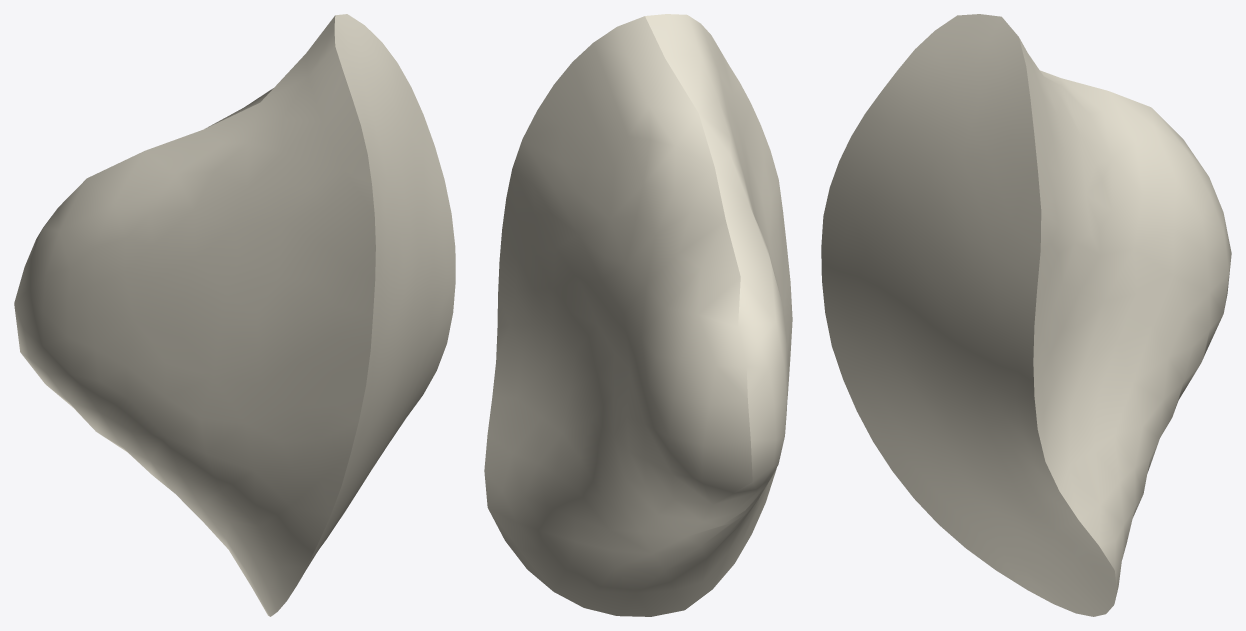
The model's file is fma17029_mm1608.glb.
3 views of the same model, side by side, from view 1: azimuth 30°, elevation 25°; view 2: azimuth 150°, elevation 25°; view 3: azimuth 270°, elevation 25° (orthographic). The views are drawn at different scales.
Visible parts, largest first — view 1: FMA17029_MM1608; view 2: FMA17029_MM1608; view 3: FMA17029_MM1608.
Boxes of the visible parts, left/top/right/bottom form: FMA17029_MM1608: left=14, top=14, right=455, bottom=616; FMA17029_MM1608: left=484, top=14, right=792, bottom=616; FMA17029_MM1608: left=821, top=14, right=1231, bottom=616.
Bounding box in the file's own units: 0.0143 × 0.0227 × 0.014.
